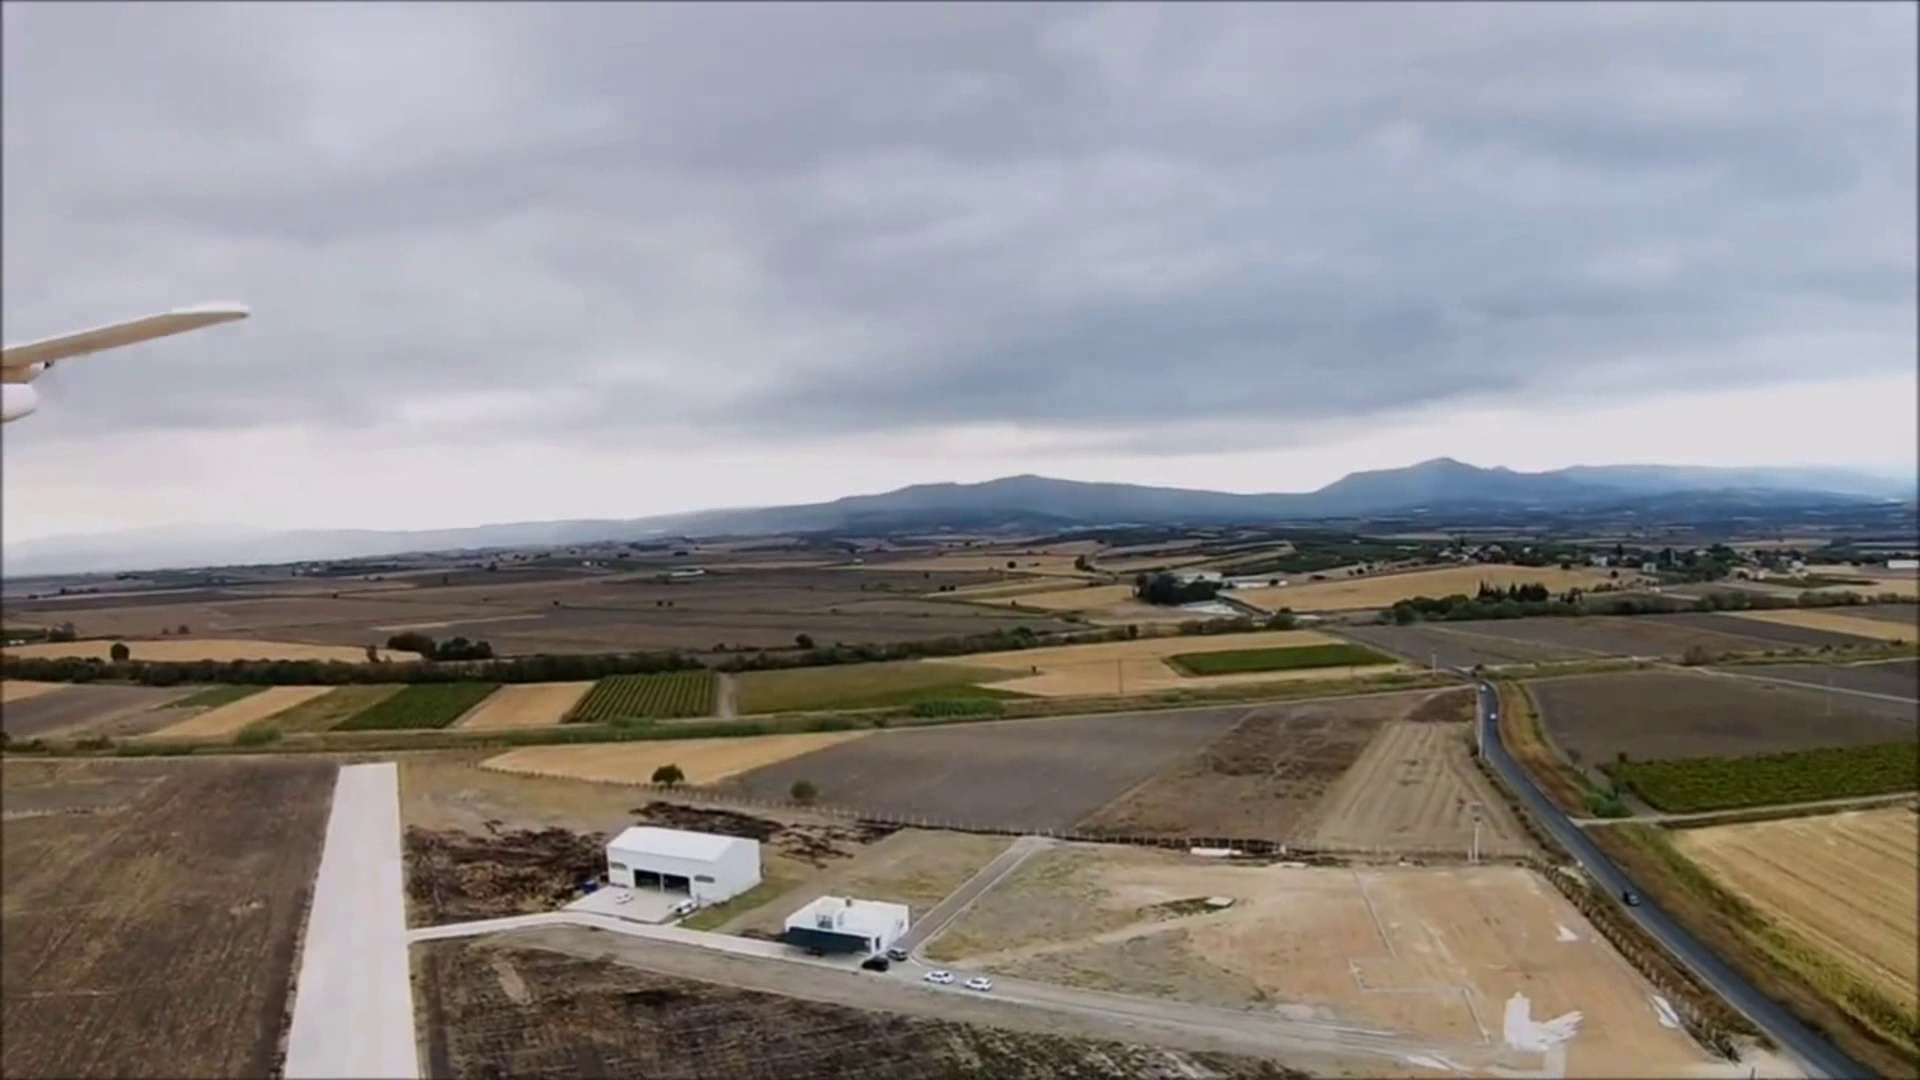airplane: (0, 303, 252, 423)
